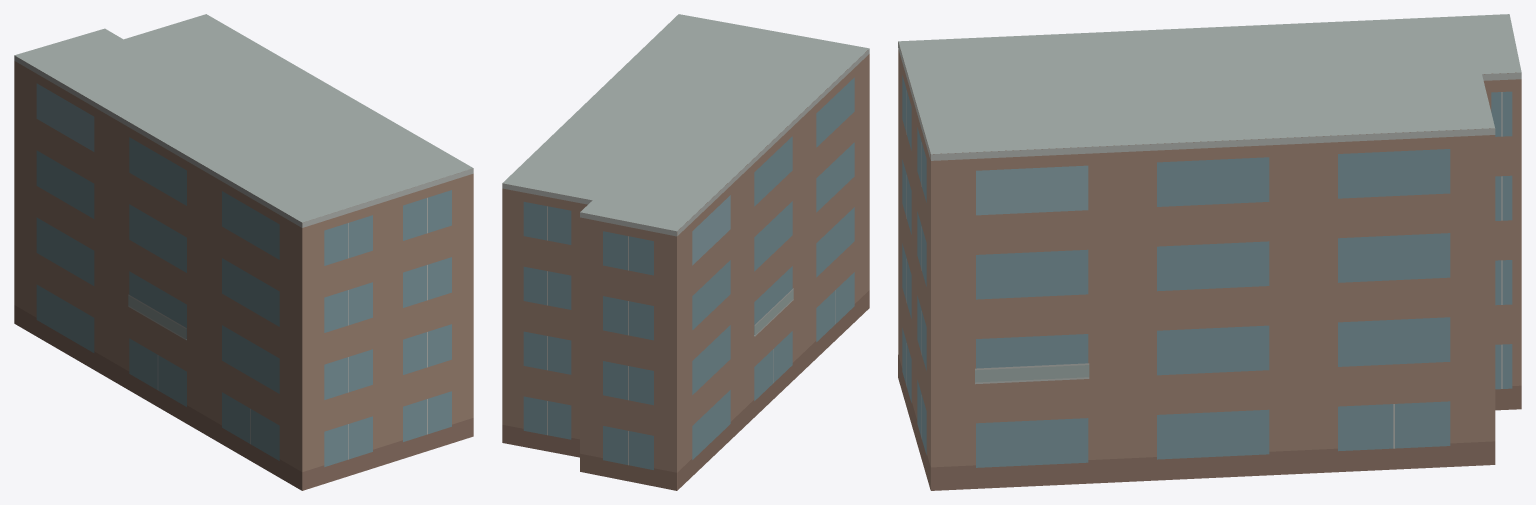
File: survey-upis-32655268.glb
3 views of the same model, side by side, from view 1: azimuth 30°, elevation 25°; view 2: azimuth 150°, elevation 25°; view 3: azimuth 270°, elevation 25° (orthographic). The views are drawn at different scales.
Visible parts, largest first — view 1: survey-upis-32655268.tmp; view 2: survey-upis-32655268.tmp; view 3: survey-upis-32655268.tmp.
Part boxes in pixels (x1,y1,x2,y2): survey-upis-32655268.tmp: (14,14,473,490); survey-upis-32655268.tmp: (502,14,869,490); survey-upis-32655268.tmp: (898,14,1521,490).
Bounding box in the file's own units: 10.91 × 12.2 × 20.48.
